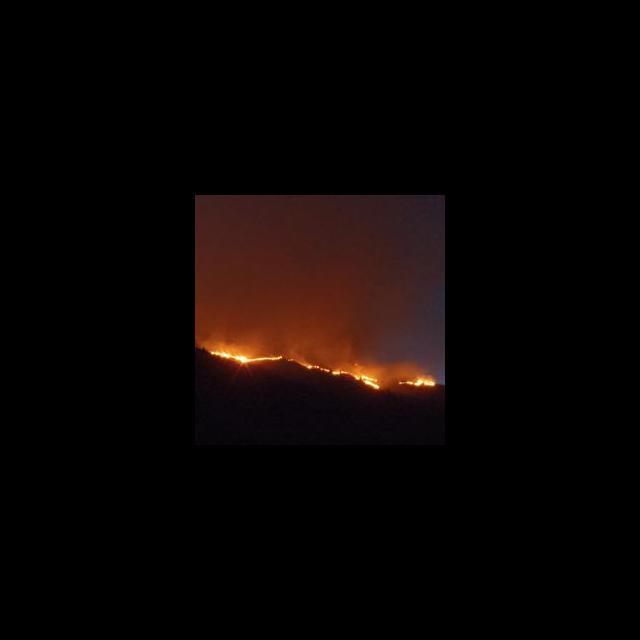Fire: (289, 355, 346, 377), (210, 348, 284, 364), (352, 370, 380, 392), (397, 374, 438, 389)
